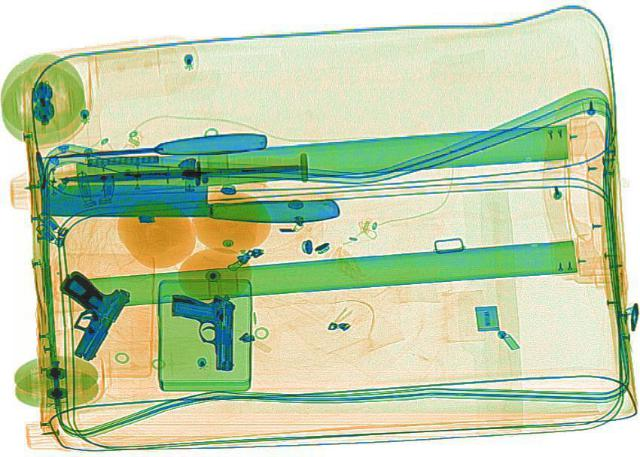Gun: (20, 267, 138, 362), (168, 291, 238, 370)
Knife: (39, 173, 339, 228), (38, 130, 268, 166), (55, 160, 298, 183)
